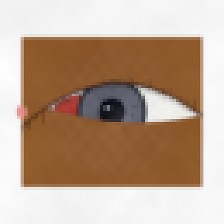hemorrhage_spot: (41, 73, 134, 148)
